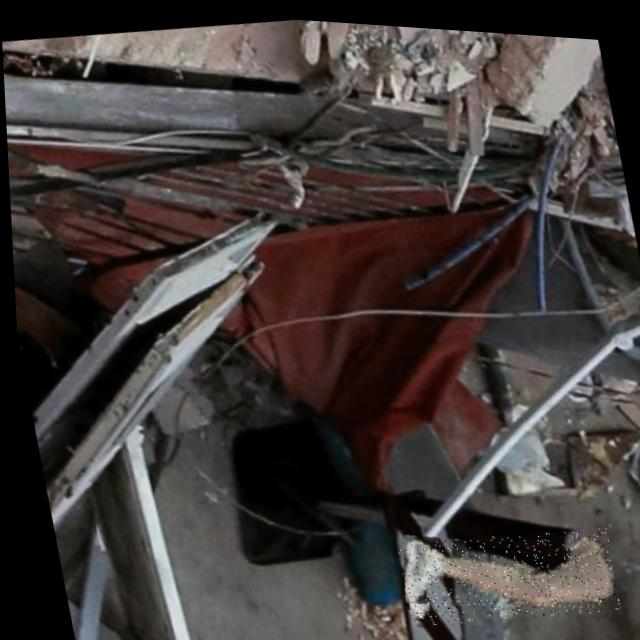Person in Rubble: (389, 509, 616, 632)
